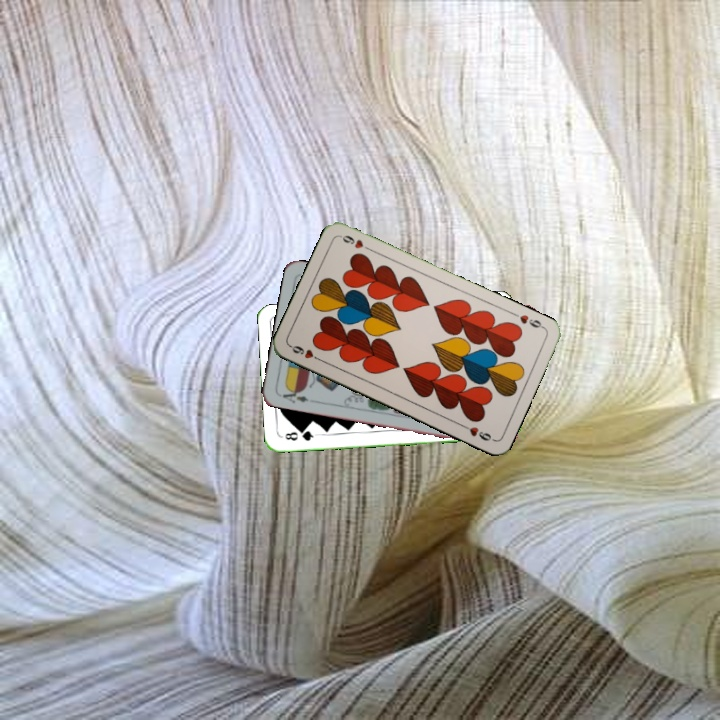EA: (276, 384, 311, 406)
G8: (281, 426, 320, 443)
H9: (286, 341, 325, 364), (516, 311, 547, 331)
